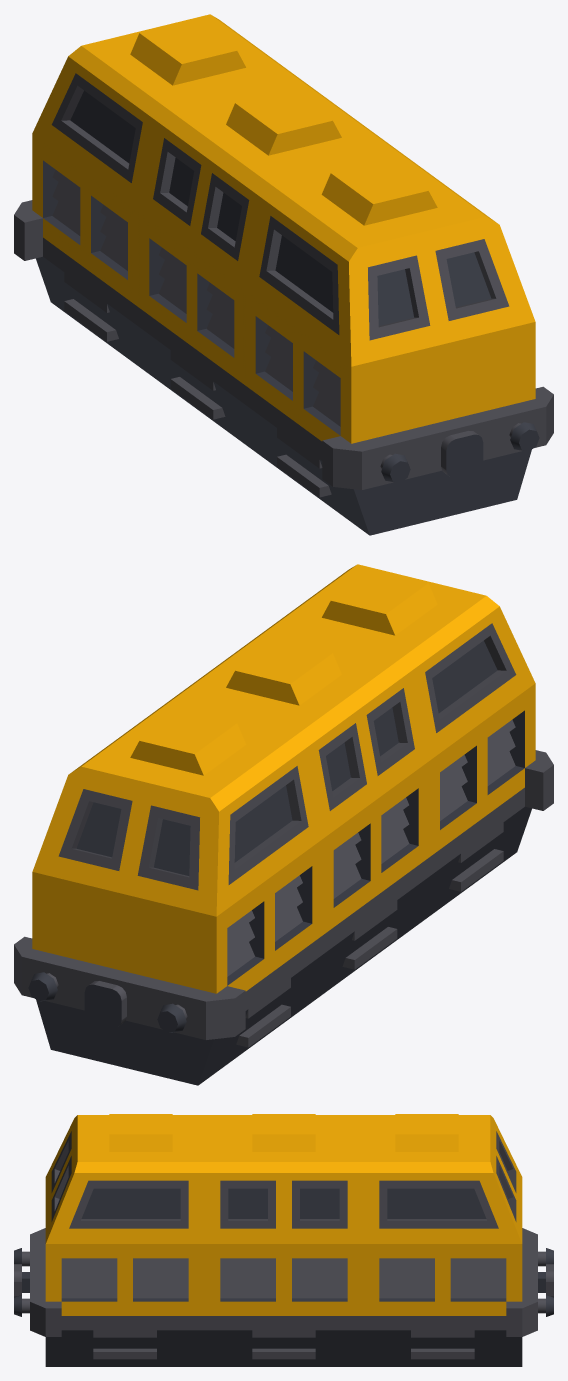
Rendered from Monorail.fbx.
3 renders of one model, top to bottom at view 1: azimuth 30°, elevation 25°; view 2: azimuth 150°, elevation 25°; view 3: azimuth 270°, elevation 25°, orthographic. The views are drawn at different scales.
Parts seen in each view (by area): view 1: diesel_cabin_front (×2), body_vents (×3), diesel_cabin, fuel_large (×3), coupling (×2); view 2: diesel_cabin_front (×2), body_vents (×3), diesel_cabin, fuel_large (×3), coupling (×2); view 3: diesel_cabin_front (×2), body_vents (×3), fuel_large (×3), diesel_cabin, coupling (×2).
Part boxes in pixels (left/top/right/bottom): diesel_cabin_front (×2): left=32, top=14, right=535, bottom=366; body_vents (×3): left=32, top=133, right=535, bottom=443; diesel_cabin: left=139, top=76, right=410, bottom=288; fuel_large (×3): left=36, top=237, right=531, bottom=535; coupling (×2): left=14, top=200, right=553, bottom=489; diesel_cabin_front (×2): left=32, top=564, right=535, bottom=916; body_vents (×3): left=32, top=683, right=535, bottom=993; diesel_cabin: left=157, top=626, right=428, bottom=838; fuel_large (×3): left=36, top=787, right=531, bottom=1085; coupling (×2): left=14, top=750, right=553, bottom=1039; diesel_cabin_front (×2): left=45, top=1114, right=522, bottom=1243; body_vents (×3): left=45, top=1244, right=522, bottom=1315; fuel_large (×3): left=45, top=1316, right=522, bottom=1366; diesel_cabin: left=204, top=1114, right=363, bottom=1243; coupling (×2): left=14, top=1228, right=553, bottom=1336.
Size of the model in its own units: 0.12 by 0.15 by 0.34.
